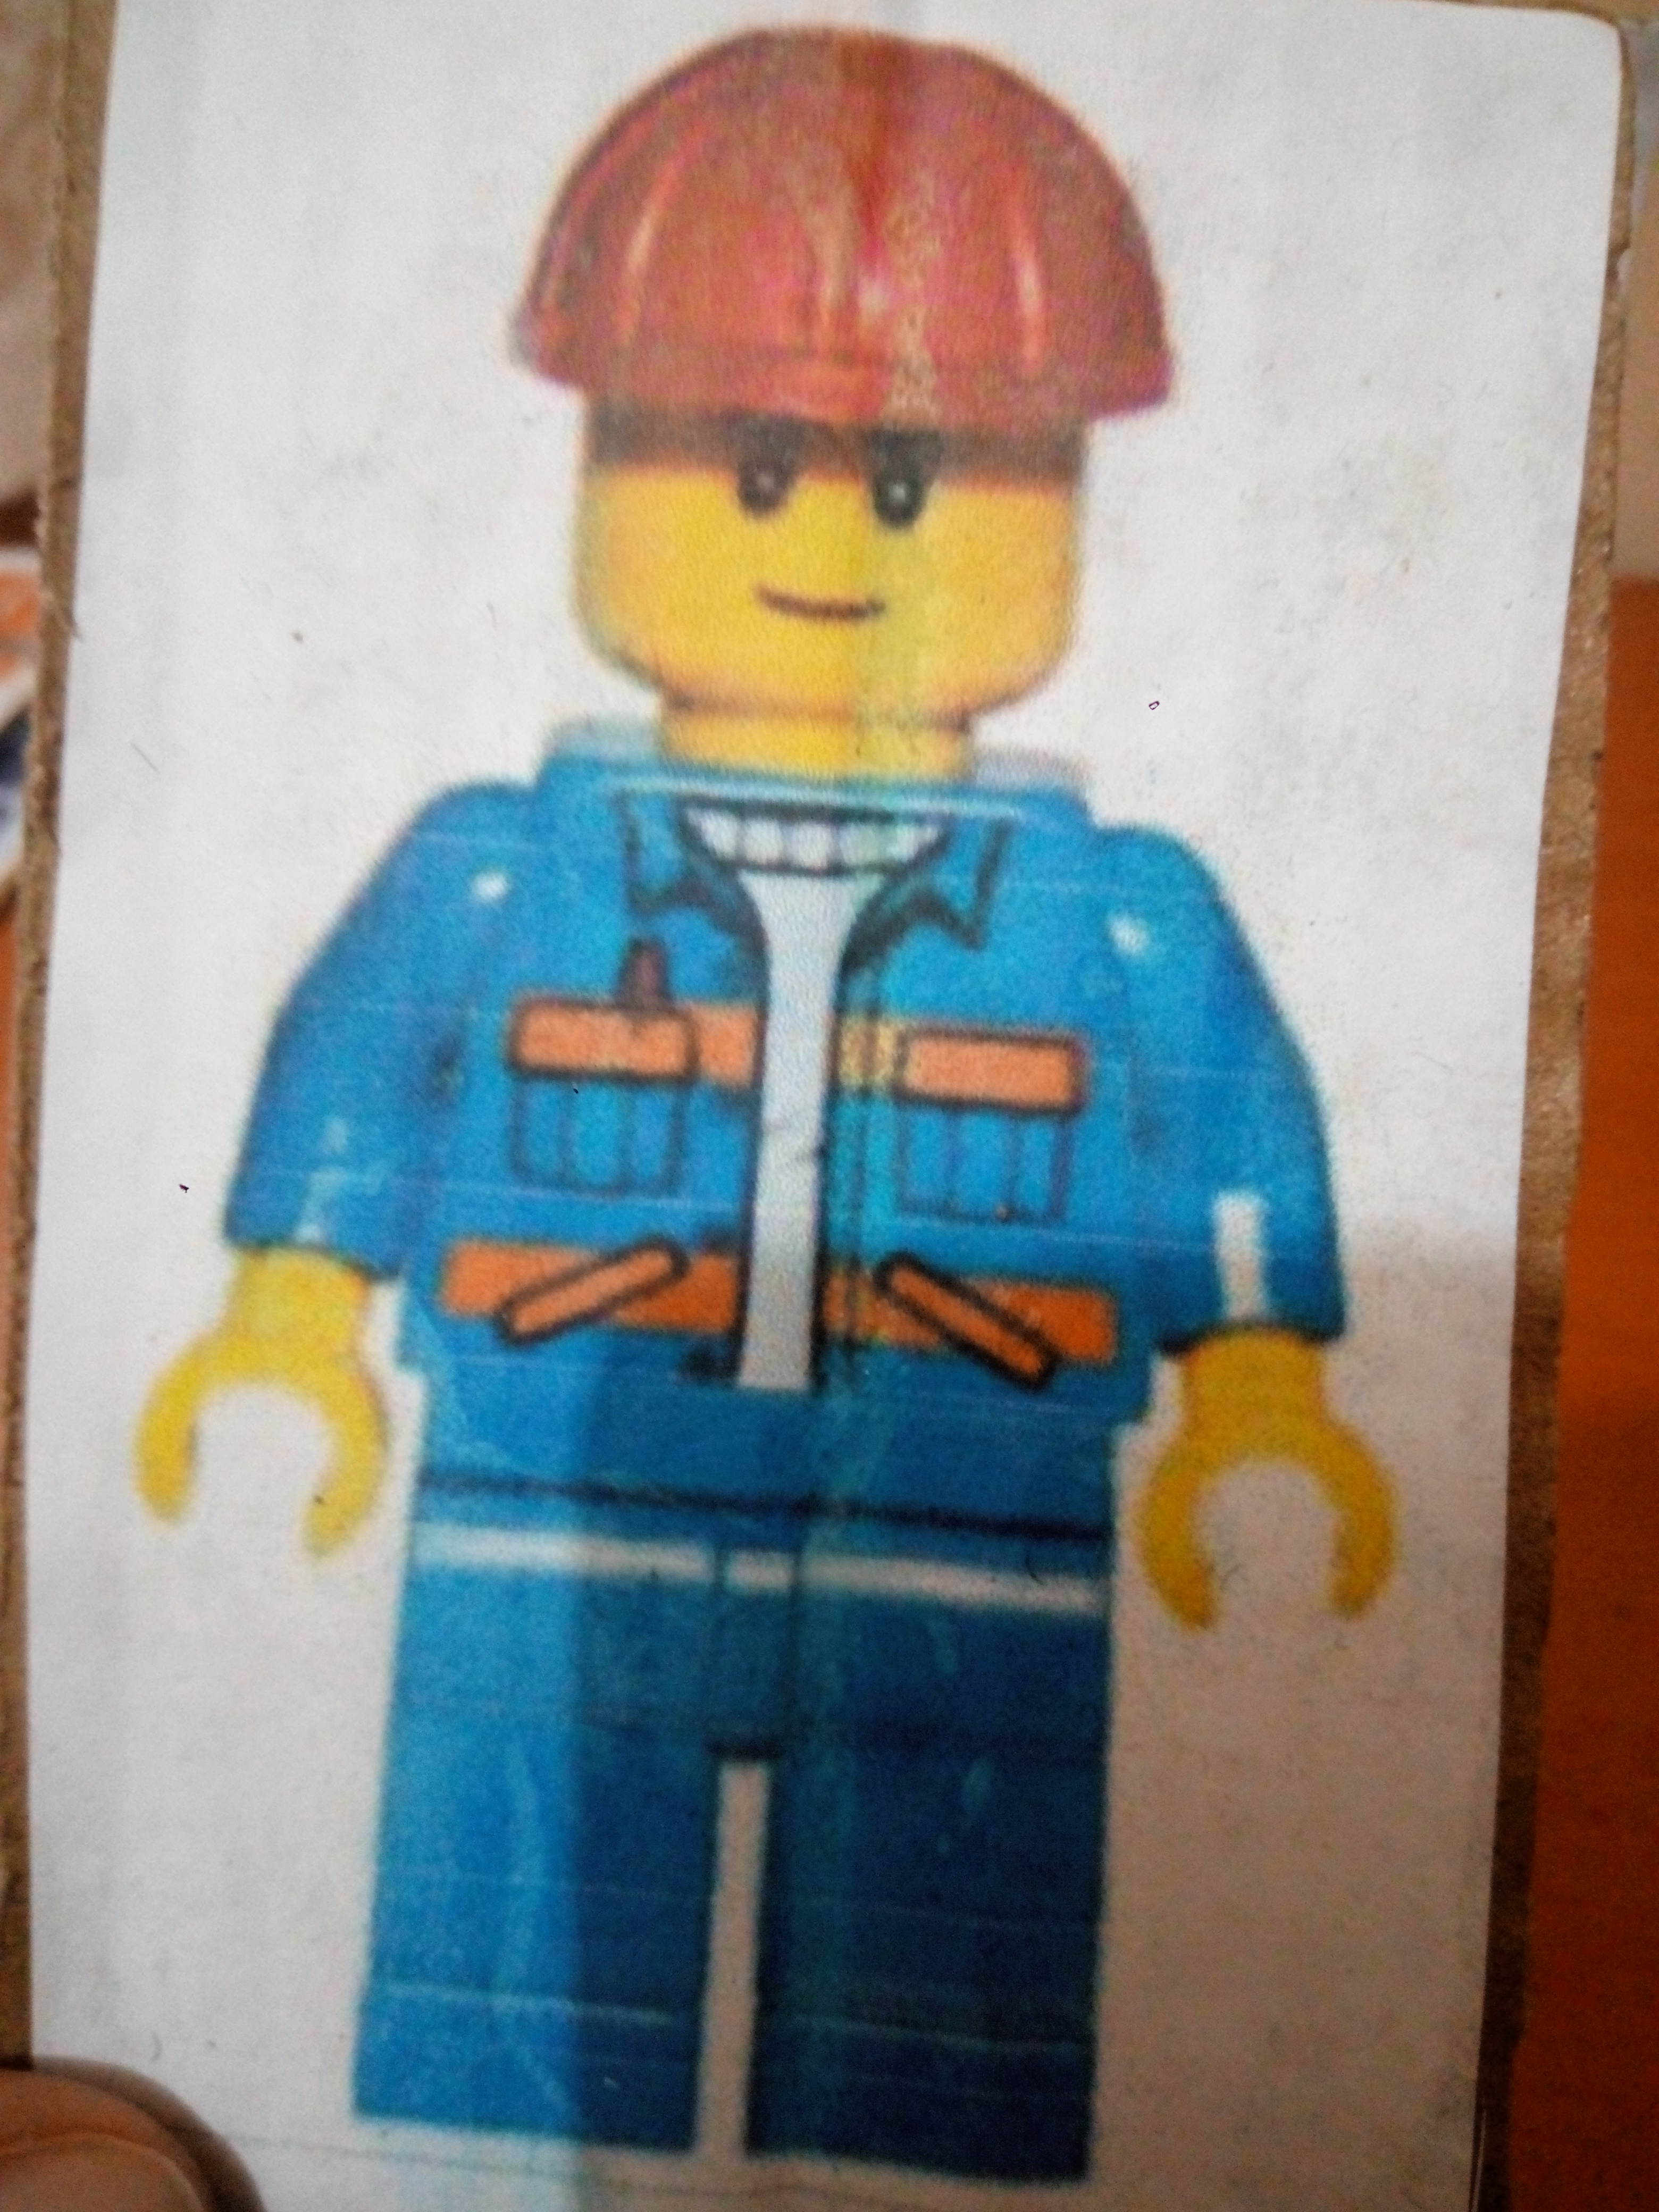pedestrian: (129, 18, 1437, 2212)
